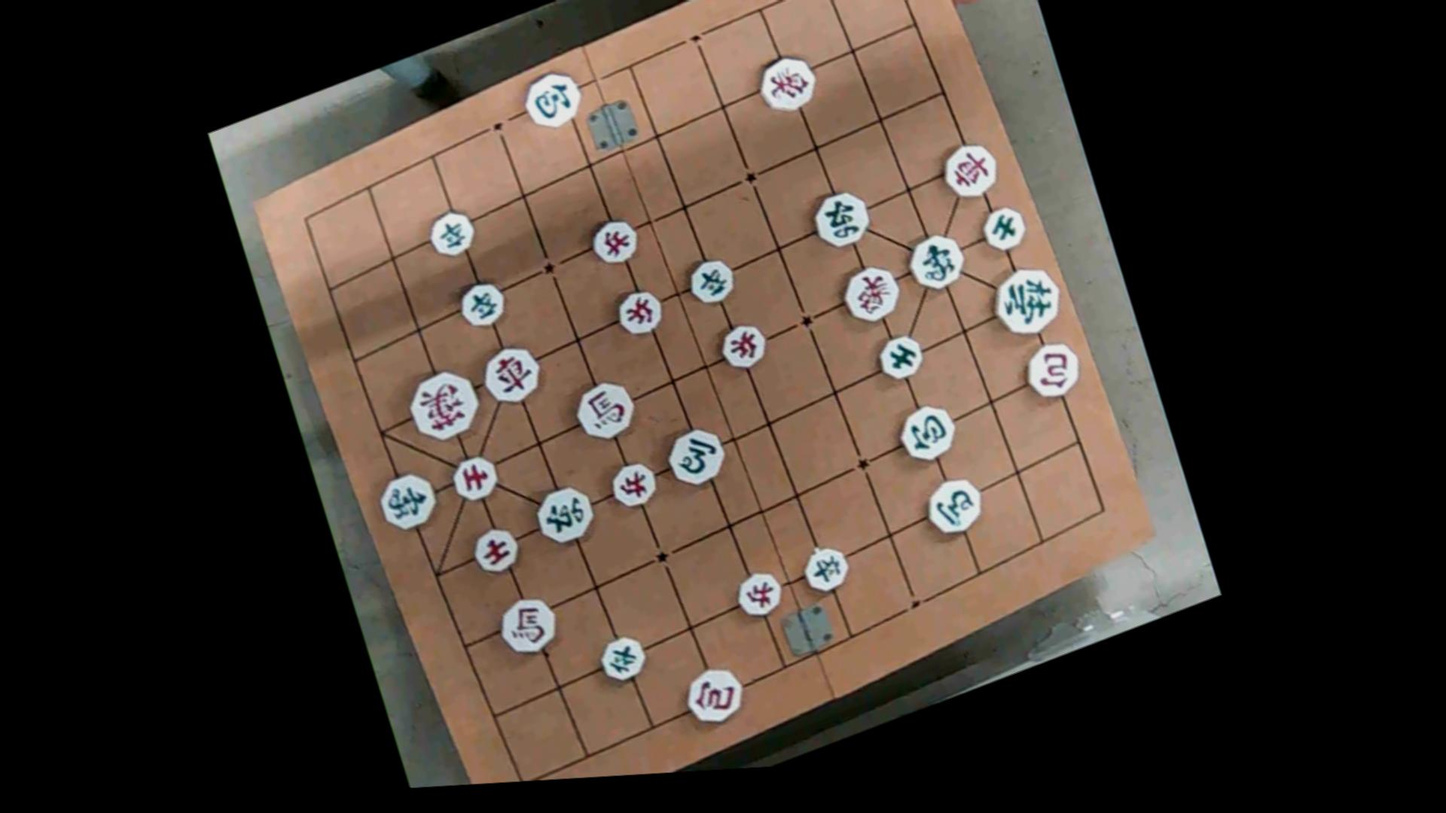cha_green: (529, 477, 599, 550), (809, 184, 876, 254)
cha_red: (479, 342, 545, 410), (937, 136, 1002, 204)
jol_green: (681, 248, 742, 315), (453, 277, 510, 335), (798, 539, 852, 599), (424, 205, 478, 265), (595, 629, 648, 688)
jol_red: (714, 314, 772, 376), (587, 212, 642, 273), (611, 282, 666, 342), (604, 455, 658, 514), (733, 565, 786, 623)
ma_green: (919, 467, 989, 540), (662, 421, 729, 495)
ma_red: (568, 373, 636, 447), (492, 588, 559, 662)
po_green: (893, 397, 959, 469), (519, 65, 584, 136)
po_red: (1018, 334, 1086, 406), (682, 662, 746, 728)
sa_green: (873, 326, 927, 386), (976, 199, 1029, 257)
sa_red: (446, 448, 500, 510), (468, 520, 521, 577)
sang_green: (905, 229, 969, 291), (377, 469, 436, 531)
sang_red: (752, 46, 820, 122), (837, 257, 905, 330)
wang_green: (985, 257, 1066, 341)
wang_red: (404, 365, 480, 444)
